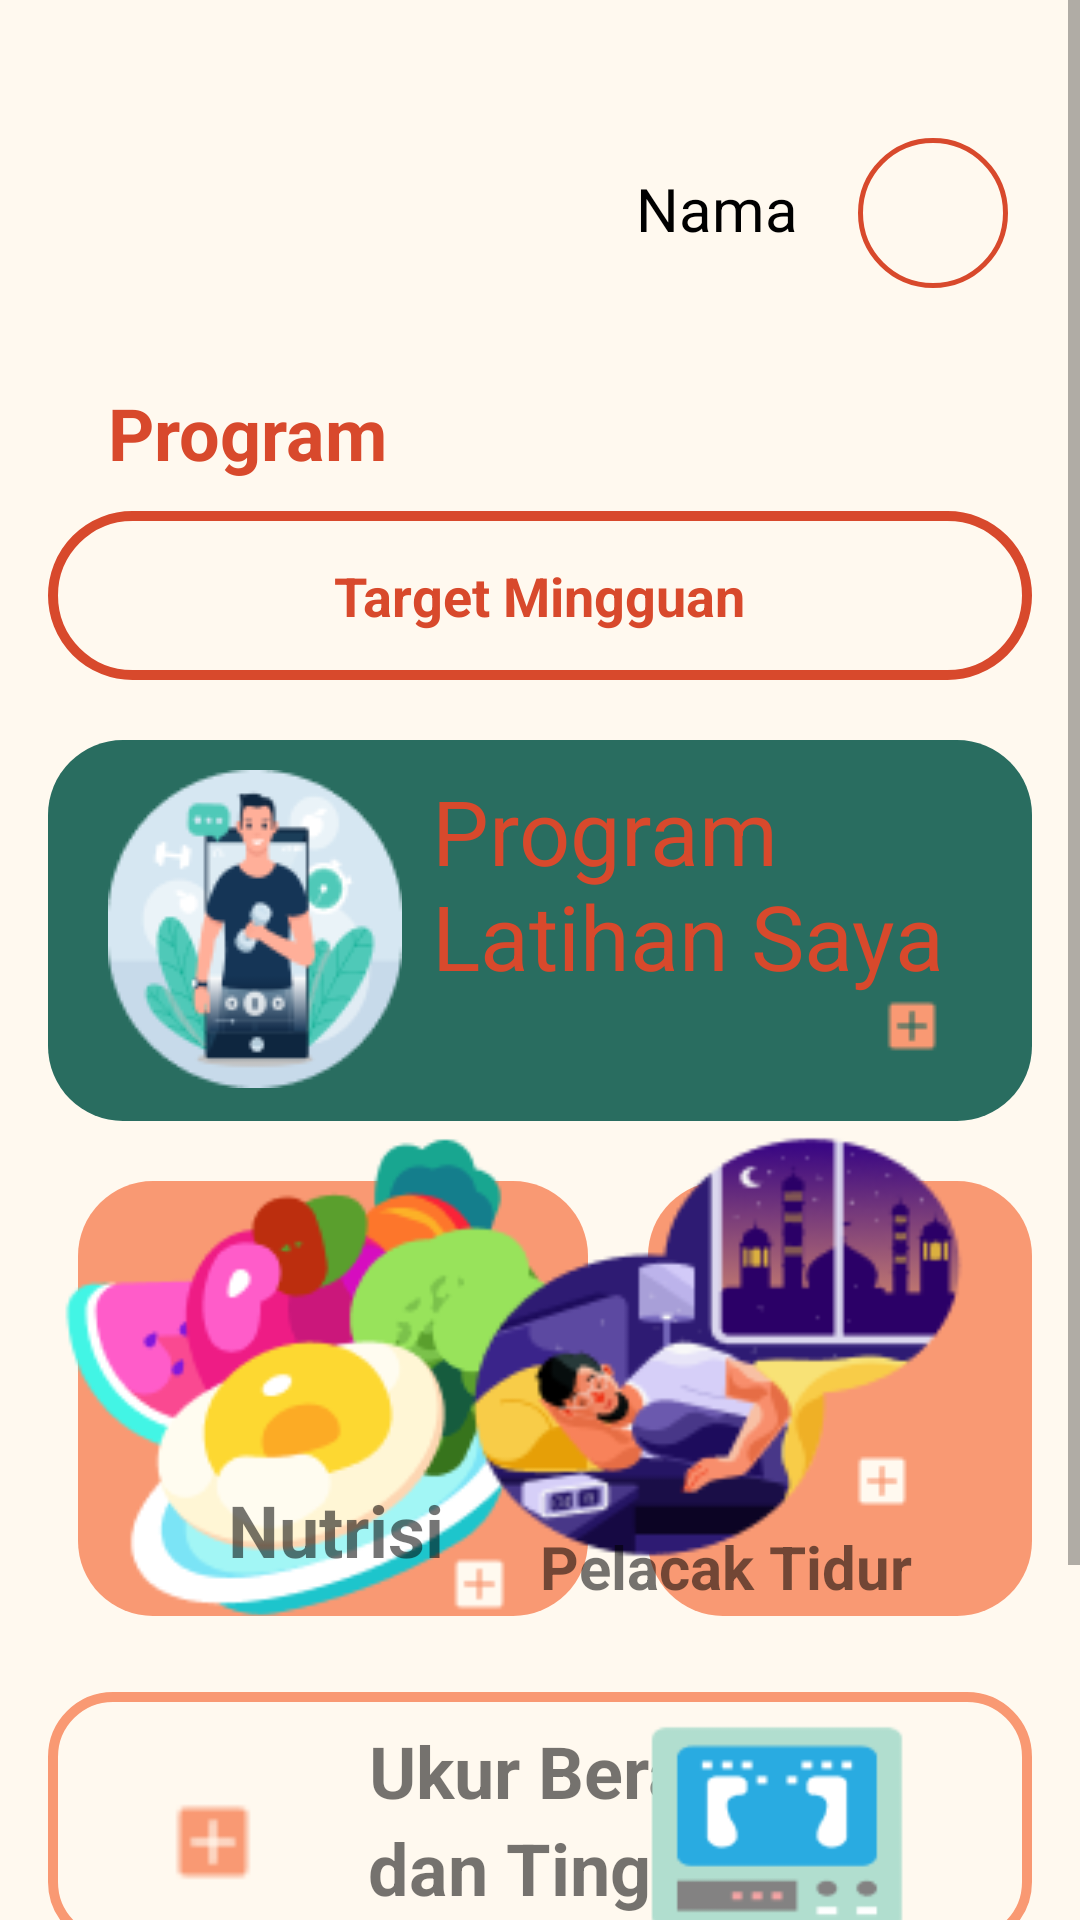

Icons on this 1080px×1920px Android screen, each with its box as (x1, y1, x2, y2):
plus: (887, 1001, 937, 1051), (176, 1805, 250, 1879)
